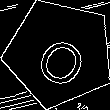O_NE: (27, 20, 91, 87)
